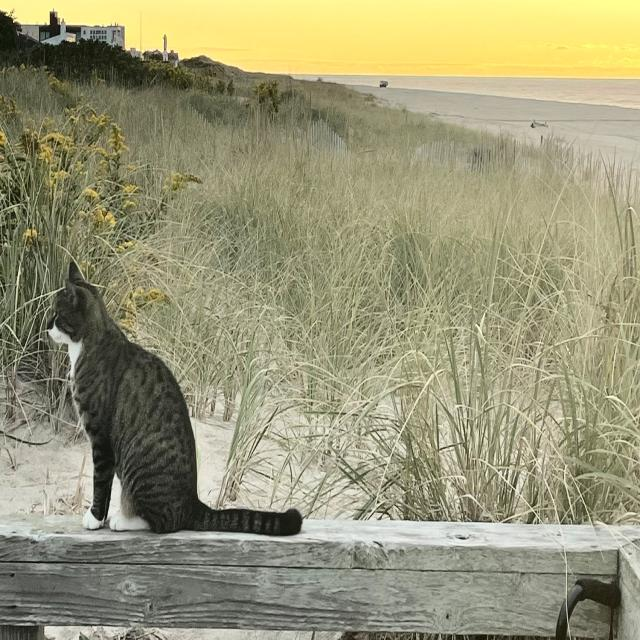cat: (48, 263, 302, 535)
